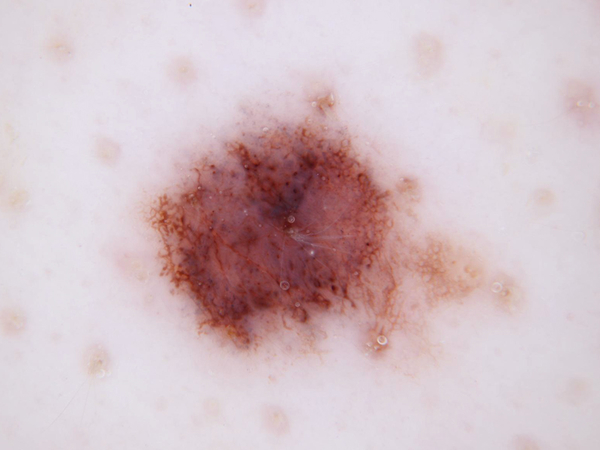Detected Lesion: (137, 86, 496, 361)
